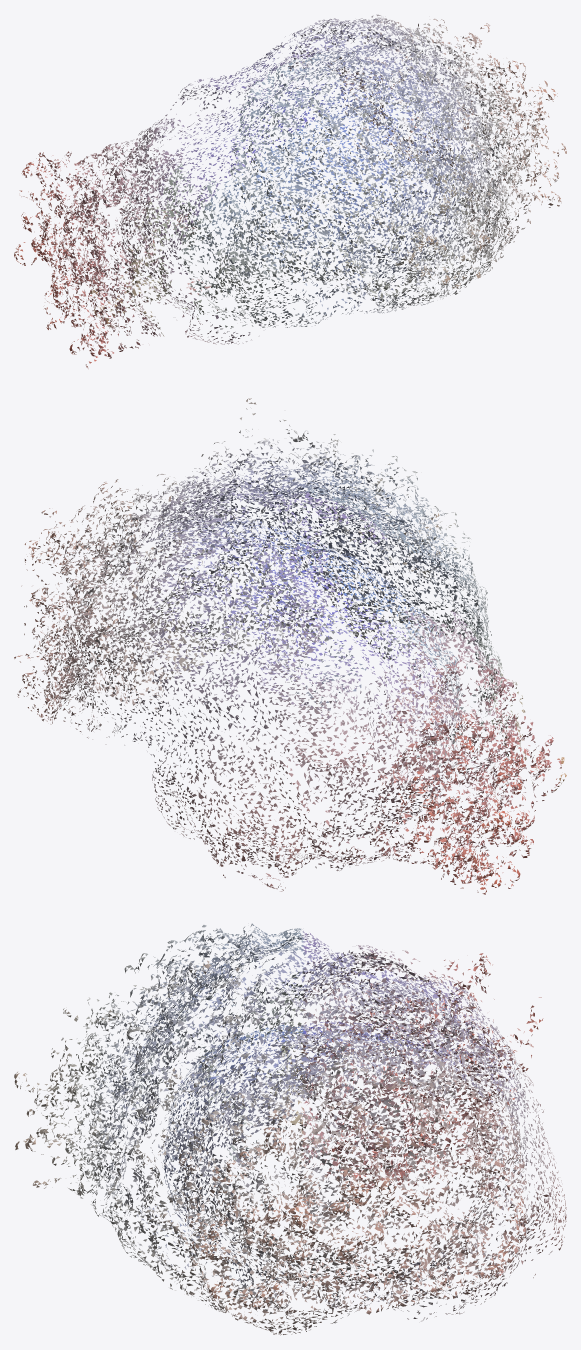
Rendered from casa.glb.
3 renders of one model, top to bottom at view 1: azimuth 30°, elevation 25°; view 2: azimuth 150°, elevation 25°; view 3: azimuth 270°, elevation 25°, orthographic. The views are drawn at different scales.
Visible parts, largest first — view 1: geometry_0; view 2: geometry_0; view 3: geometry_0.
Part boxes in pixels (x1=…): geometry_0: x1=14, y1=14, x2=566, y2=368; geometry_0: x1=14, y1=398, x2=566, y2=894; geometry_0: x1=14, y1=923, x2=566, y2=1335.
Bounding box in the file's own units: 16 × 10.57 × 12.71.
